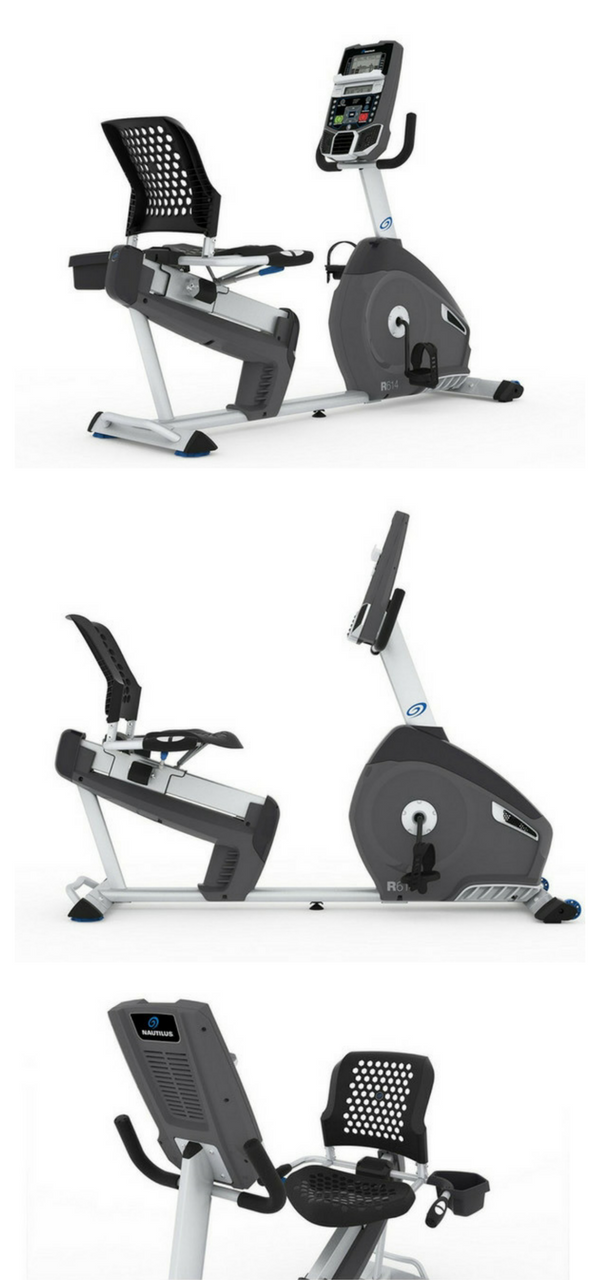gym_bike: (56, 515, 570, 959), (67, 39, 505, 464), (65, 996, 600, 1280)
